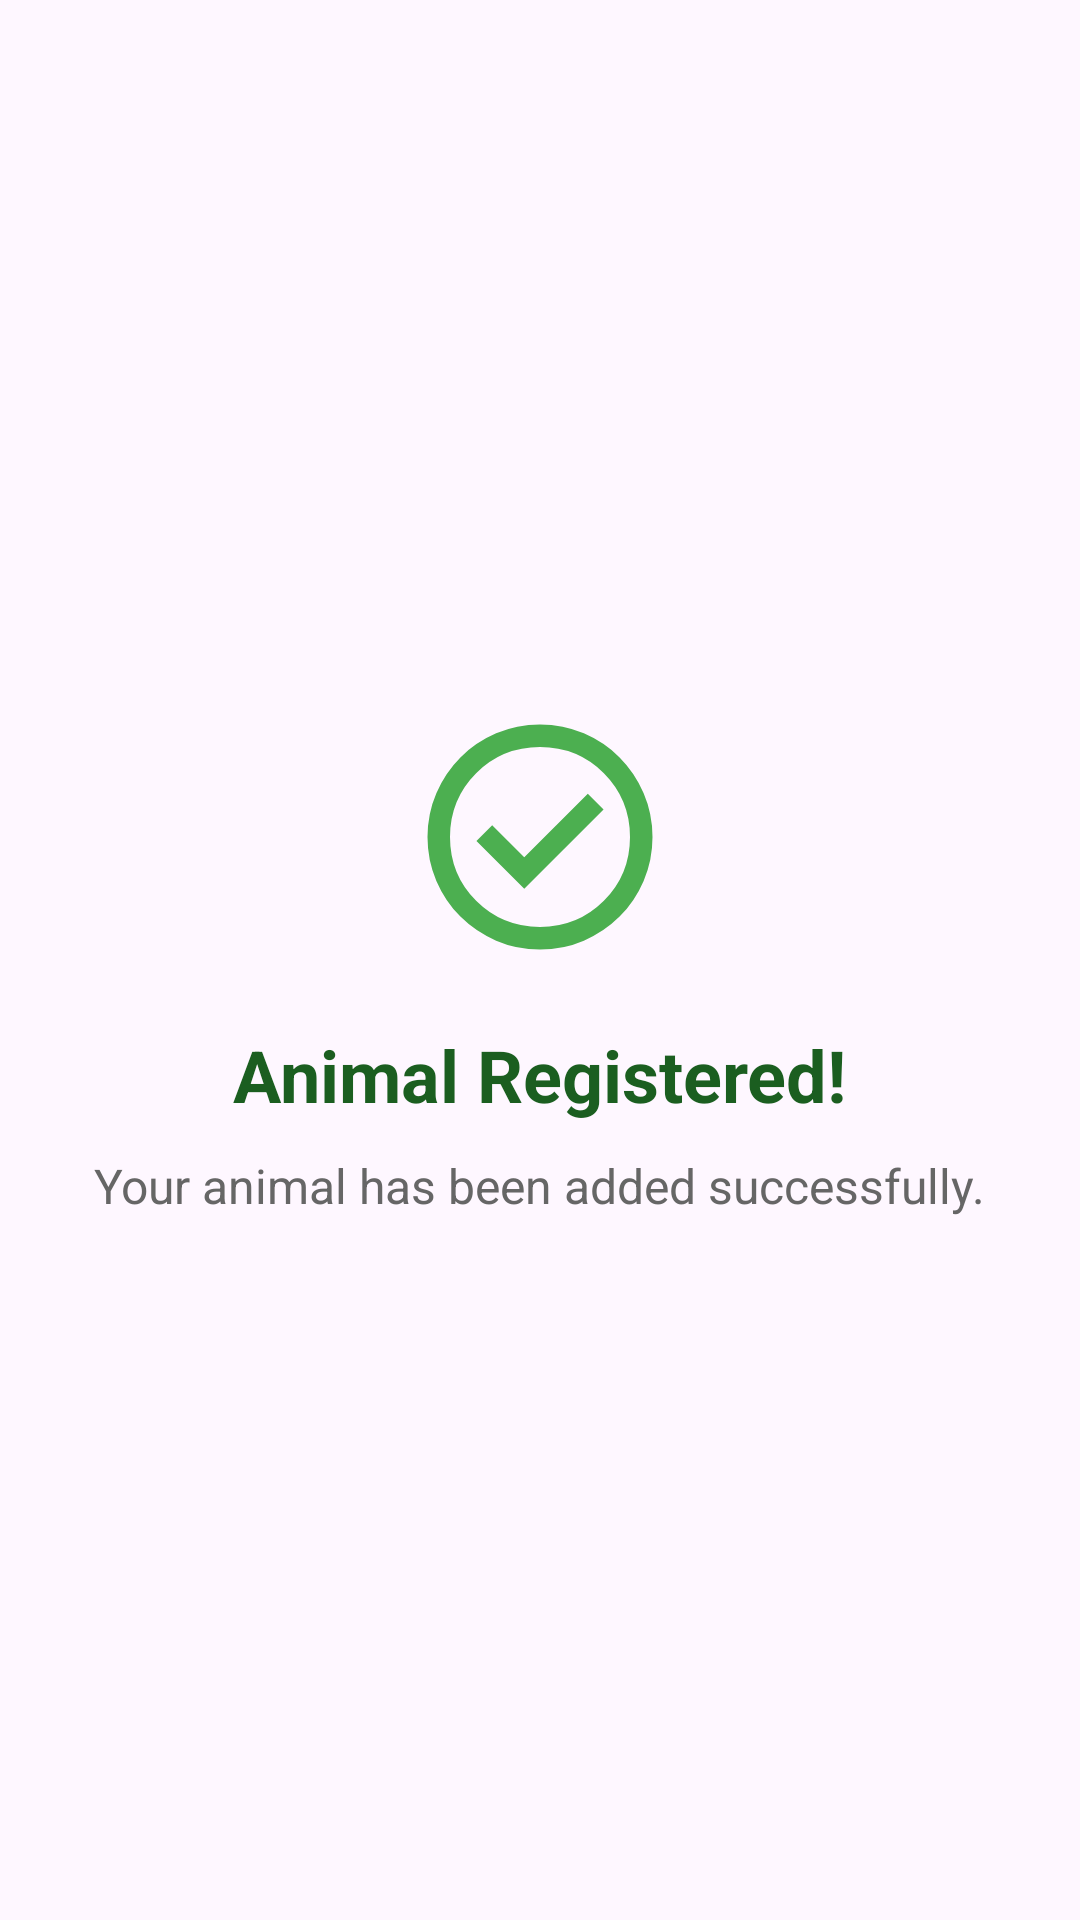

Icon bounding boxes for this 1080x1920 phone screenshot, format (x1, y1, x2, y2):
success: (427, 724, 653, 950)
